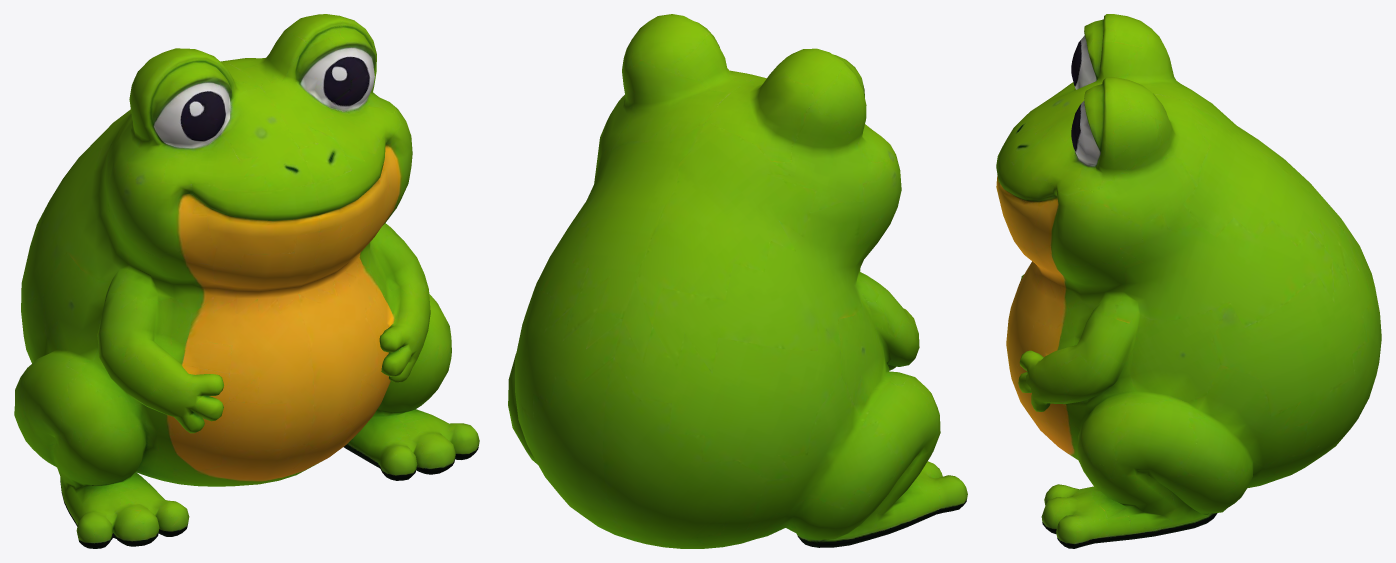
Rendered from frog.glb.
3 renders of one model, left to right at view 1: azimuth 30°, elevation 25°; view 2: azimuth 150°, elevation 25°; view 3: azimuth 270°, elevation 25°, orthographic. The views are drawn at different scales.
Parts seen in each view (by area): view 1: geometry_0; view 2: geometry_0; view 3: geometry_0.
Boxes of the visible parts, box(x1,y1,x2,y2) form: geometry_0: box(14, 14, 479, 548); geometry_0: box(508, 14, 967, 548); geometry_0: box(996, 14, 1381, 548).
Bounding box in the file's own units: 0.8862 × 0.9521 × 0.8071.
1 material, 1 textured.
